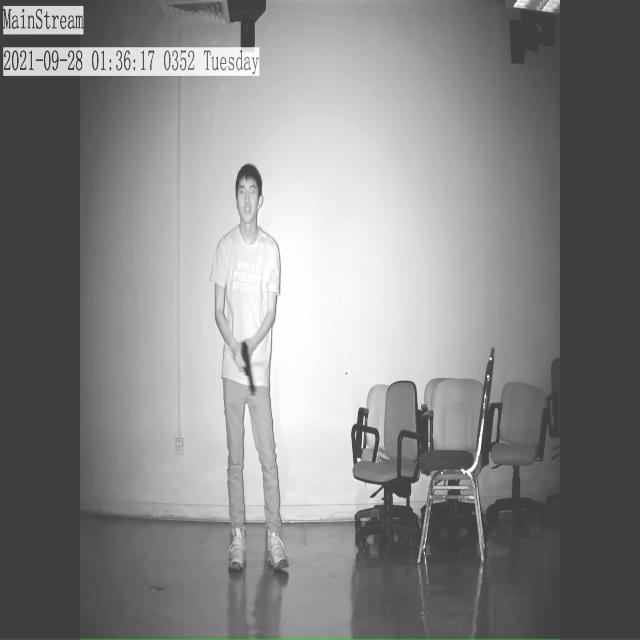Gun: (231, 346, 268, 402)
